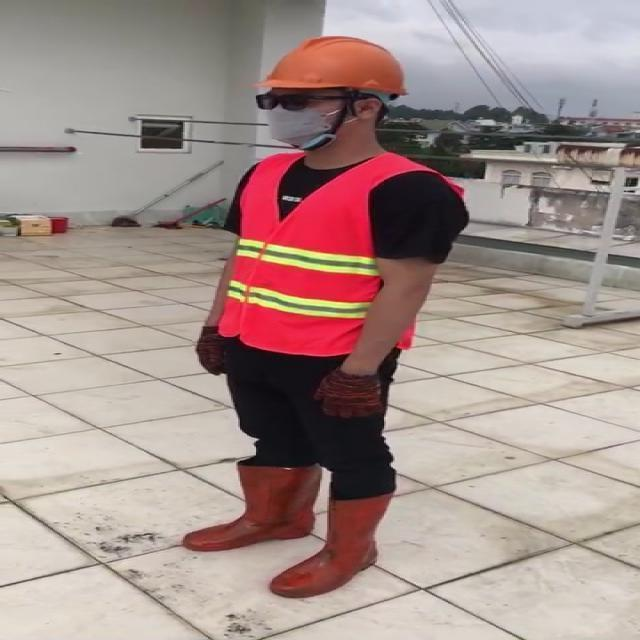helmet: (248, 33, 420, 99)
safety_vest: (220, 151, 464, 357)
